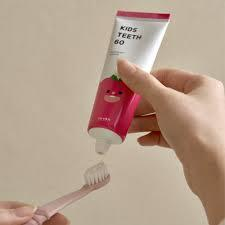toothpaste: (84, 8, 174, 152)
